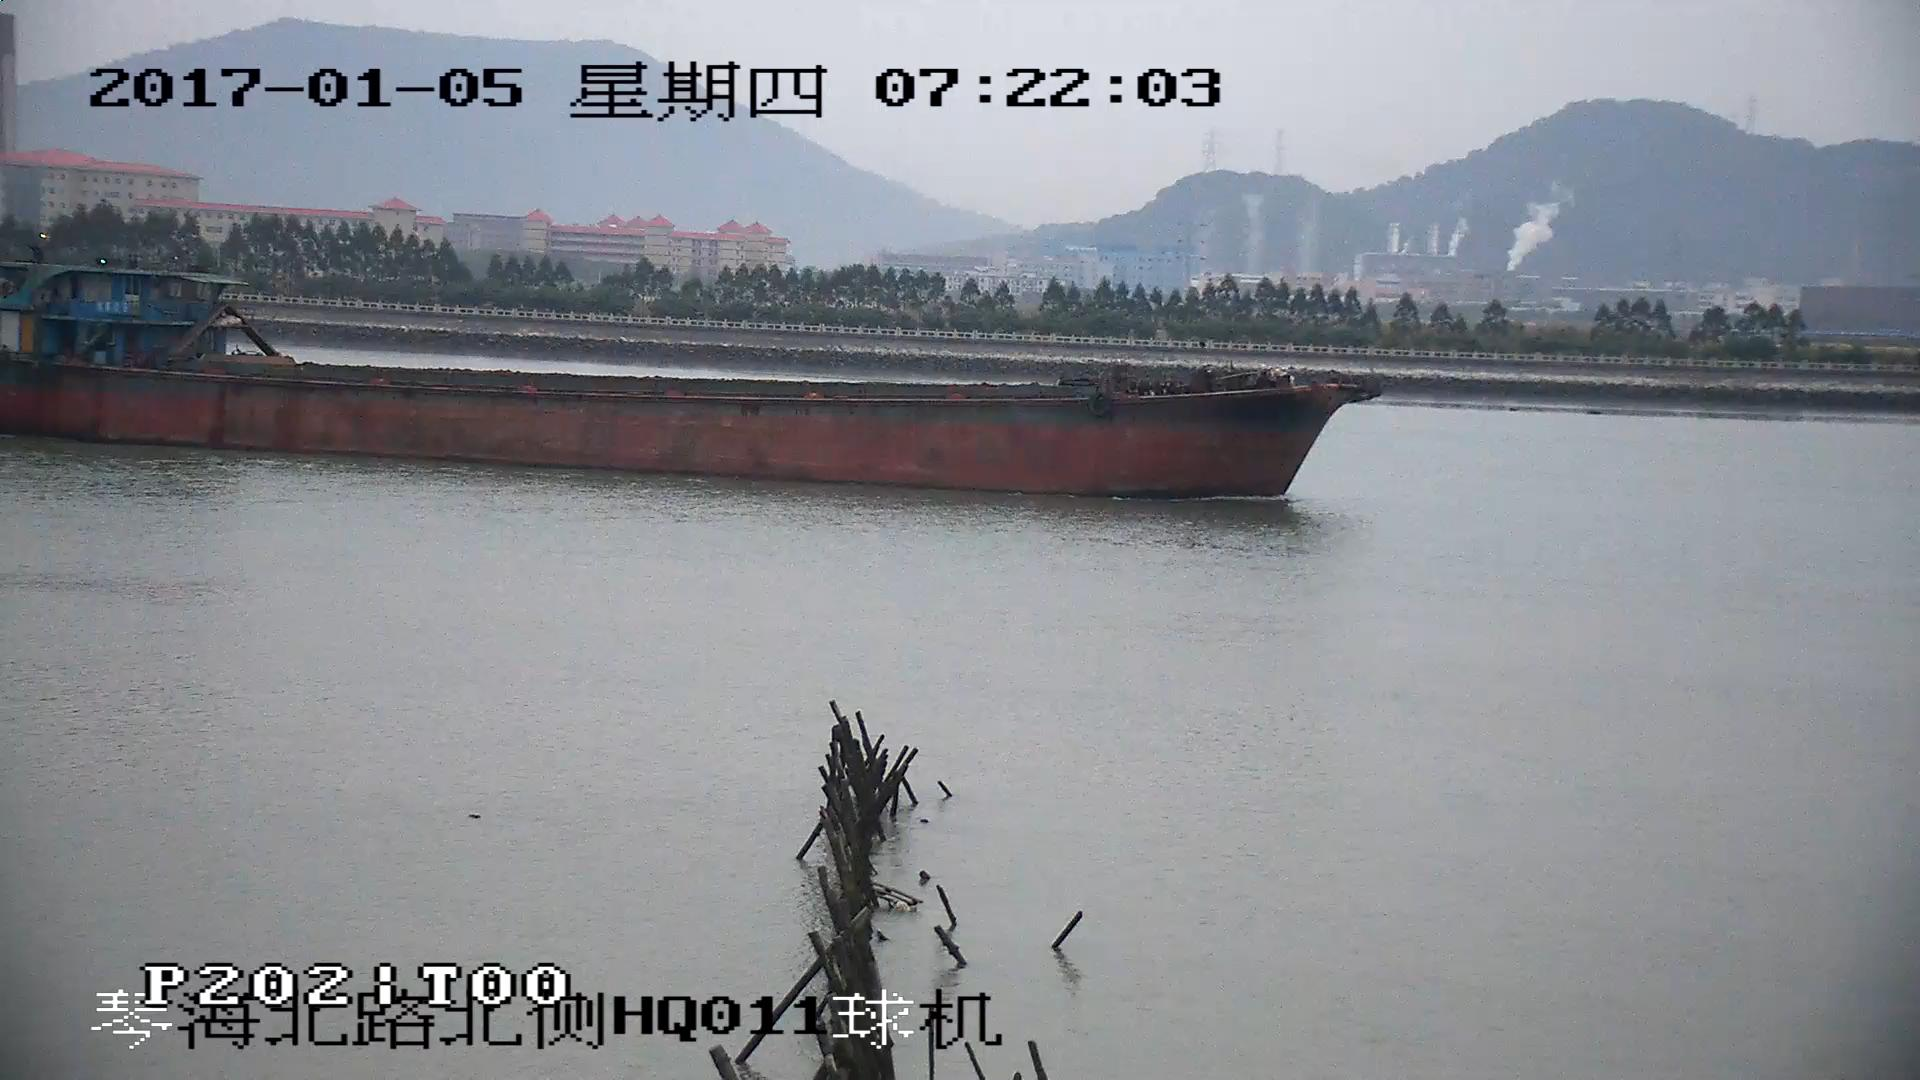bulk cargo carrier: (1, 264, 1372, 498)
